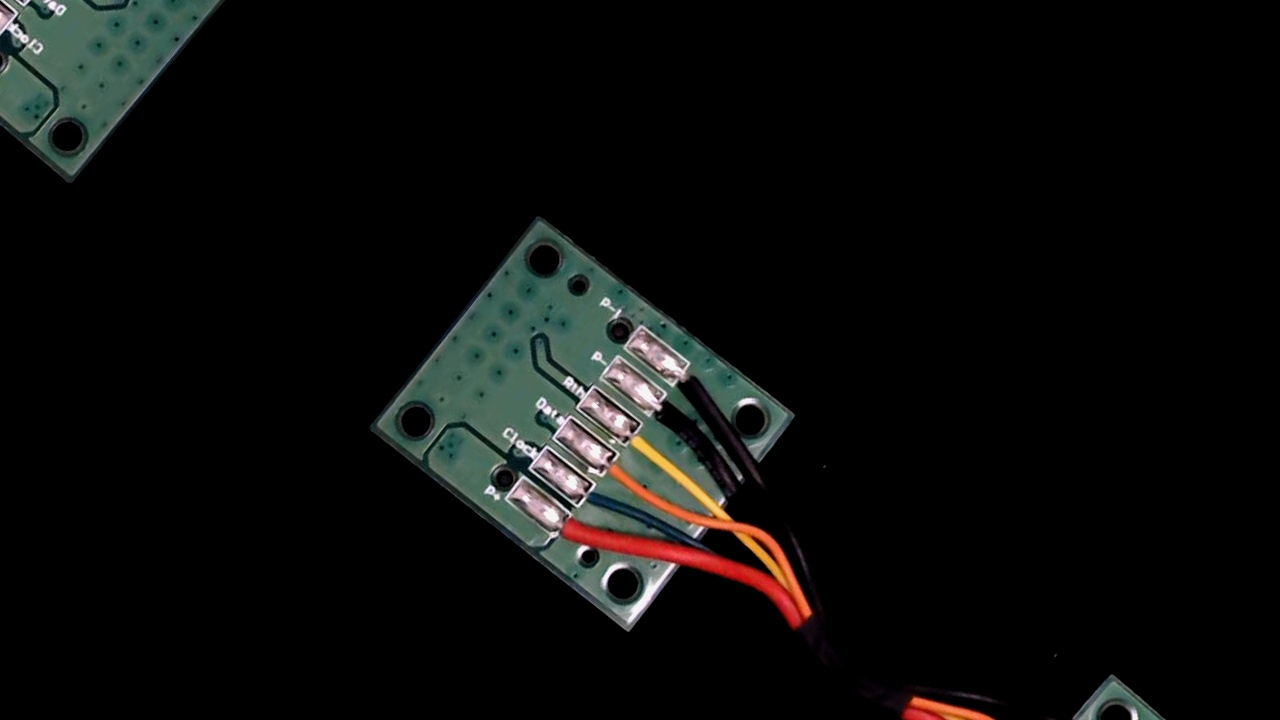Black: (634, 383, 712, 455)
Black1: (661, 352, 734, 420)
Green: (562, 469, 628, 531)
Orange: (587, 441, 663, 512)
Red: (537, 502, 613, 572)
Yellow: (609, 412, 688, 485)
